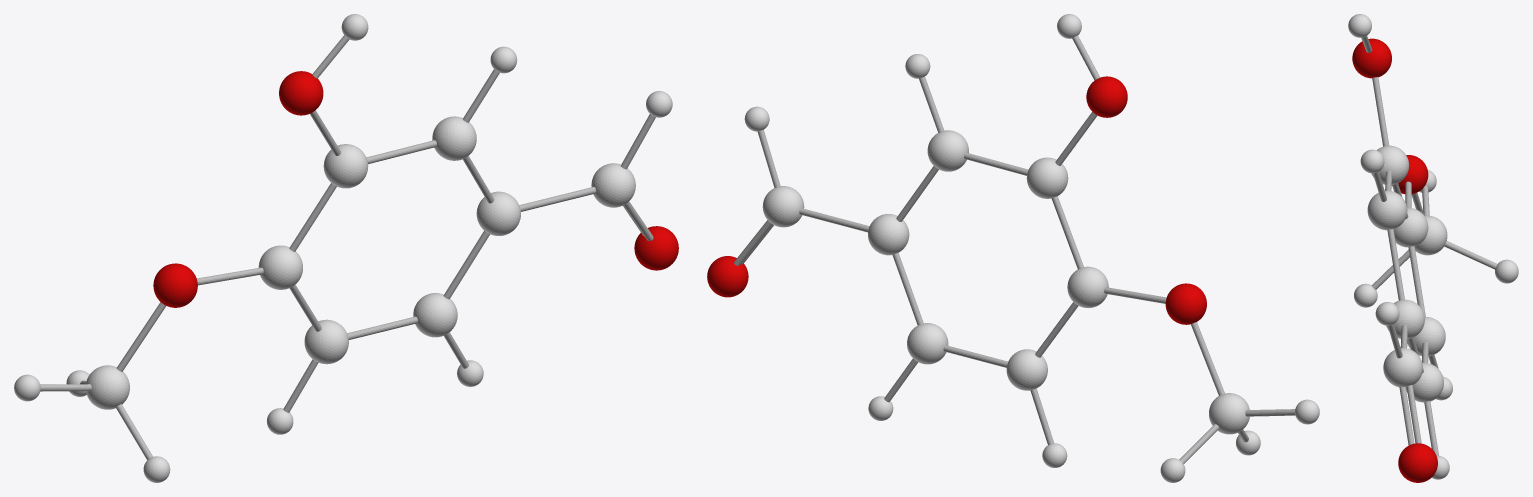
Rendered from COc1ccc_C_O_cc1O.glb.
The picture shows the model from 3 angles, left to right: view 1: azimuth 30°, elevation 25°; view 2: azimuth 150°, elevation 25°; view 3: azimuth 270°, elevation 25°; orthographic projection. The views are drawn at different scales.
Visible parts, largest first — view 1: world; view 2: world; view 3: world.
Boxes of the visible parts, box(x1,y1,x2,y2) form: world: box(14, 14, 678, 482); world: box(707, 14, 1319, 482); world: box(1348, 14, 1518, 482).
Size of the model in its own units: 8.52 by 5.51 by 2.14.
